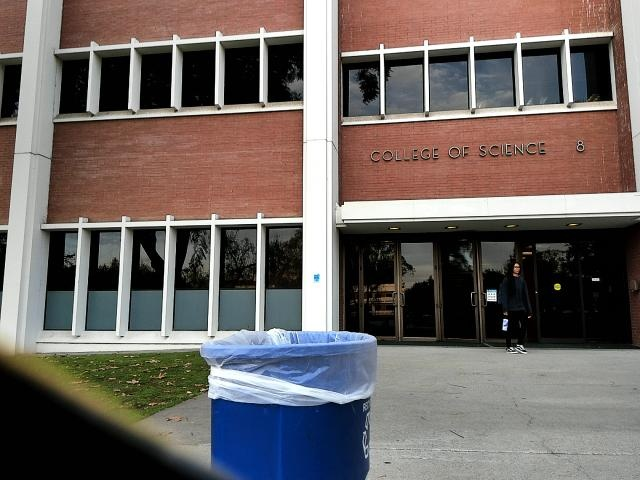trashcan_open: (205, 320, 376, 480)
